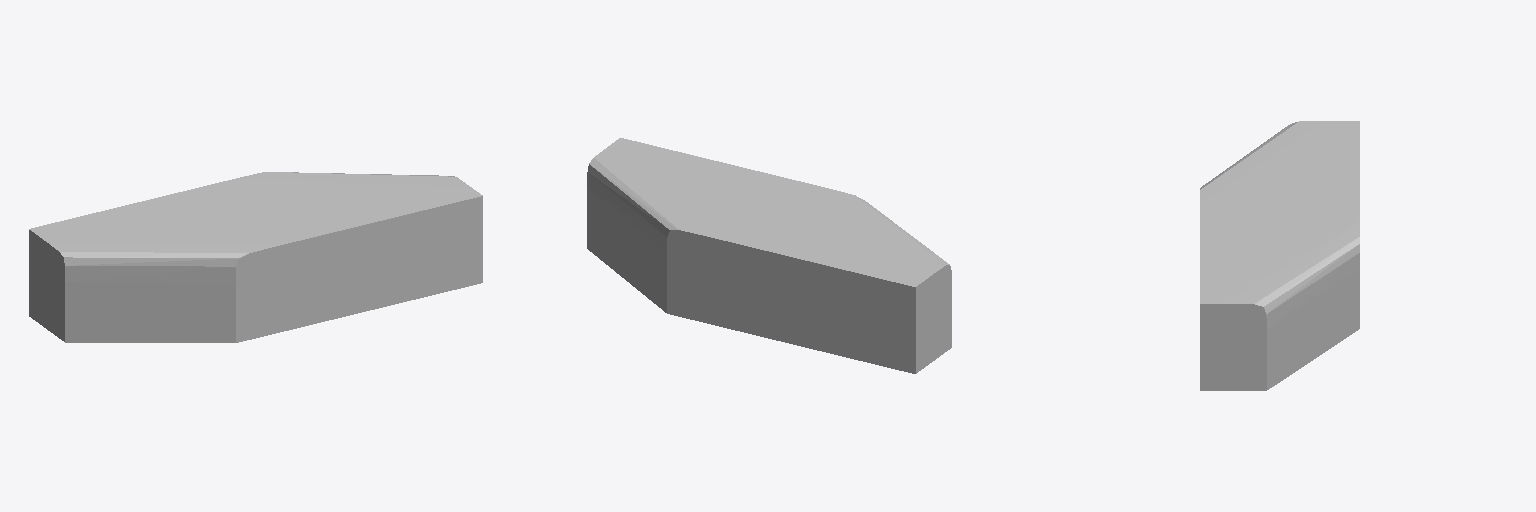
The model's file is pentagon_collision_6.obj.
The picture shows the model from 3 angles: view 1: azimuth 30°, elevation 25°; view 2: azimuth 150°, elevation 25°; view 3: azimuth 270°, elevation 25°; orthographic projection.
Size of the model in its own units: 0.0148 by 0.0033 by 0.0055.